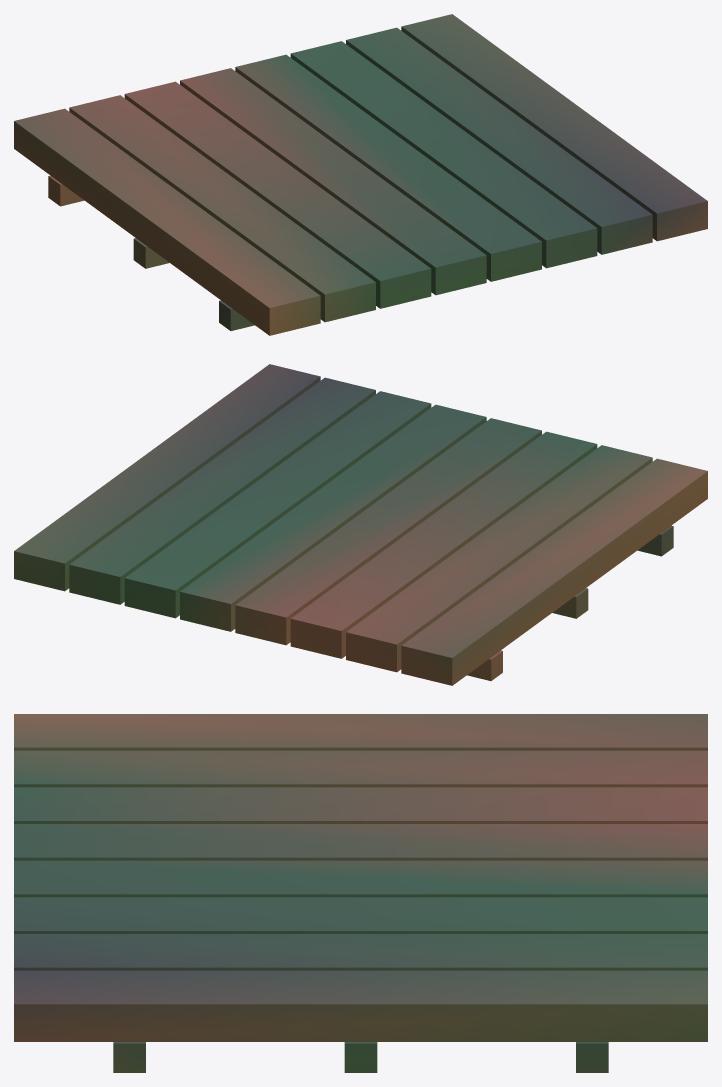
File: burg_floor_3m.glb
The picture shows the model from 3 angles, top to bottom: view 1: azimuth 30°, elevation 25°; view 2: azimuth 150°, elevation 25°; view 3: azimuth 270°, elevation 25°; orthographic projection. The views are drawn at different scales.
Parts seen in each view (by area): view 1: planks, joists; view 2: planks, joists; view 3: planks, joists.
Part boxes in pixels (bbox=[...]): planks: bbox=[14, 14, 707, 335]; joists: bbox=[48, 175, 254, 330]; planks: bbox=[14, 364, 707, 685]; joists: bbox=[467, 525, 673, 680]; planks: bbox=[14, 714, 707, 1041]; joists: bbox=[113, 1042, 608, 1072].
Size of the model in its own units: 3 by 0.32 by 3.
